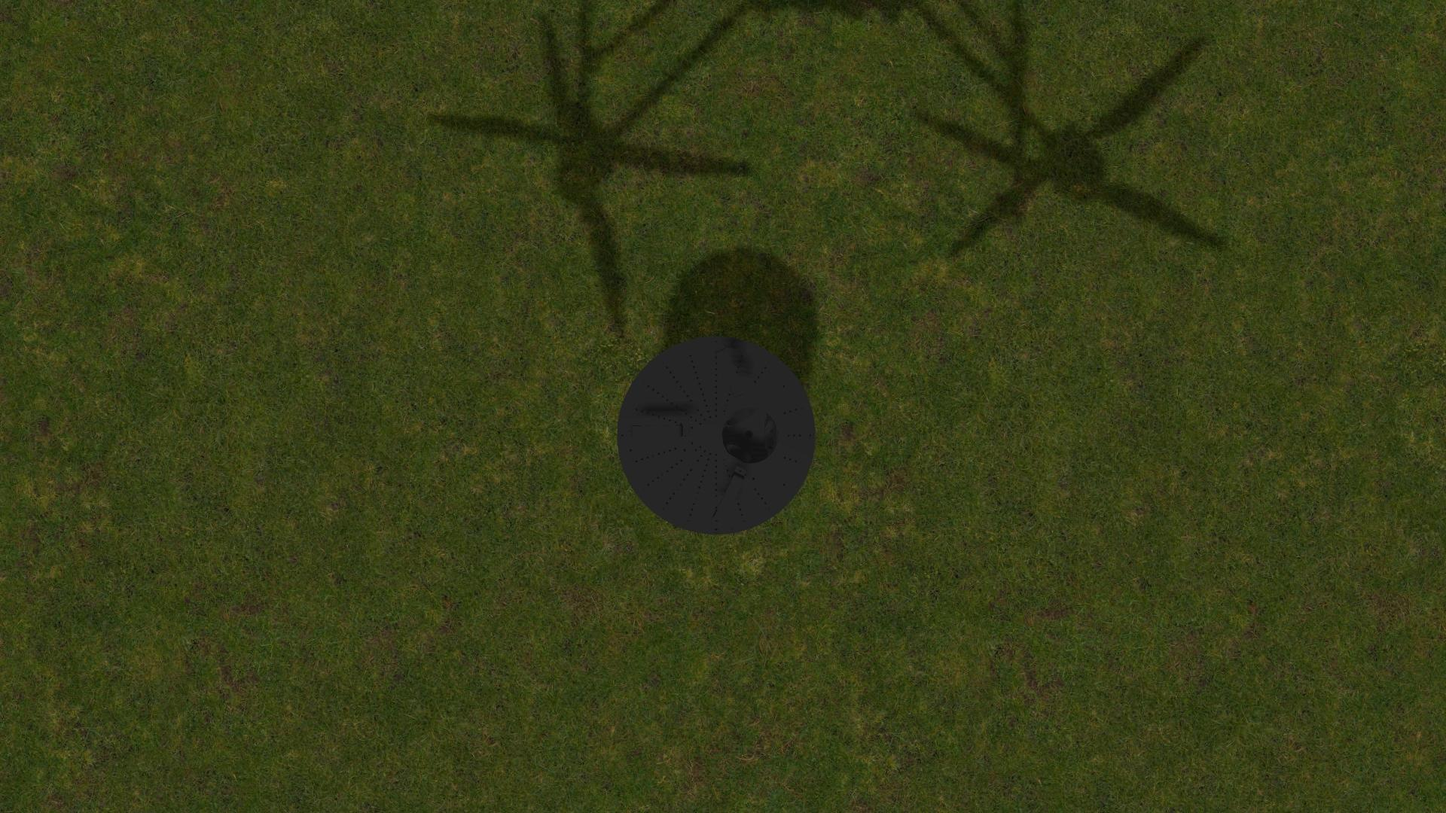alca: (710, 466, 747, 526), (712, 343, 747, 403), (627, 424, 690, 439)
armadilha: (617, 335, 815, 535)
